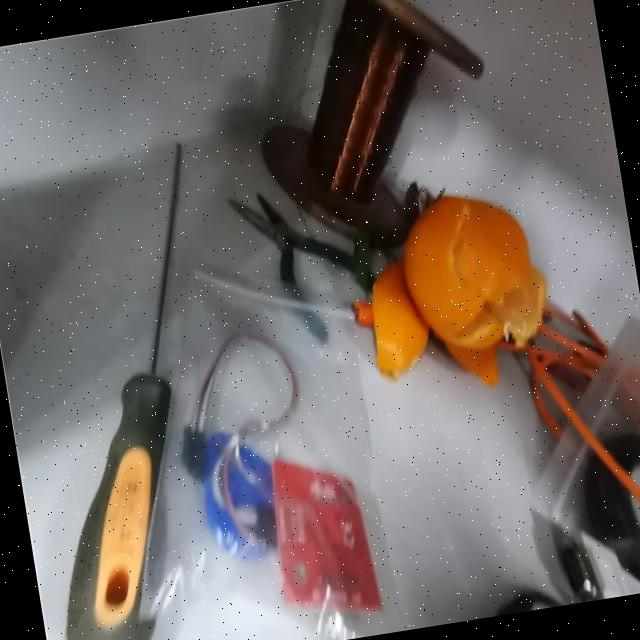orange-peel: (340, 178, 562, 405)
